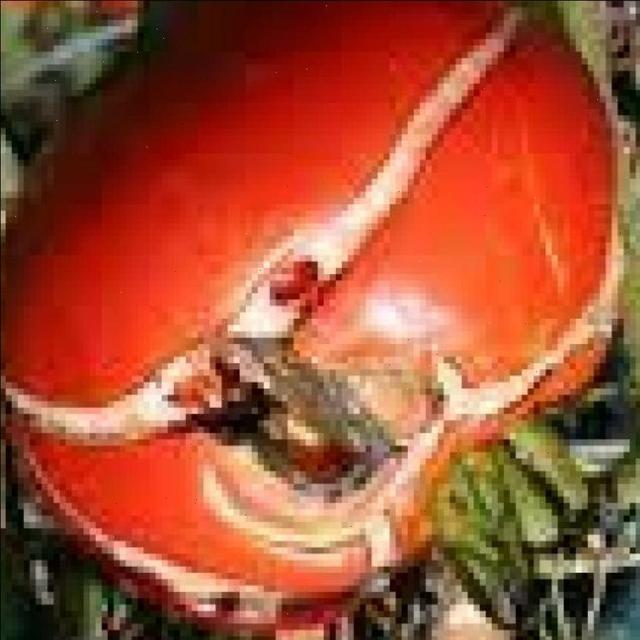Cracking Fruit: (106, 103, 360, 368)
